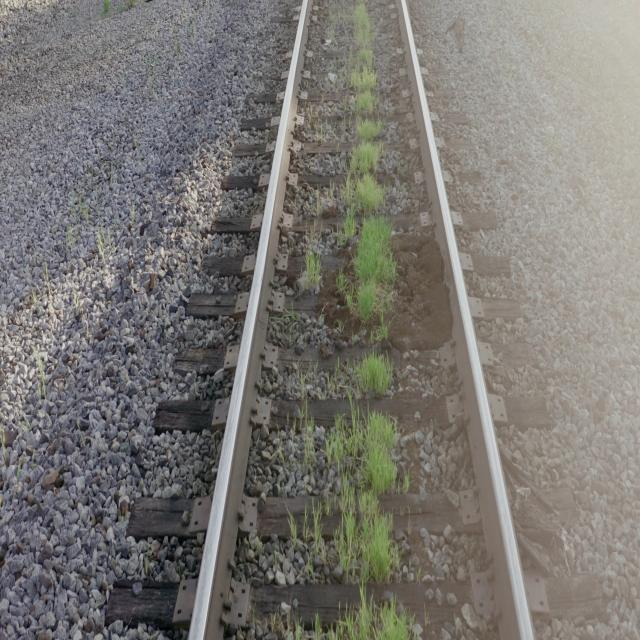Plant: (312, 409, 412, 640), (335, 2, 398, 340), (355, 353, 391, 398), (379, 602, 410, 640), (300, 247, 321, 289), (305, 418, 316, 467)
